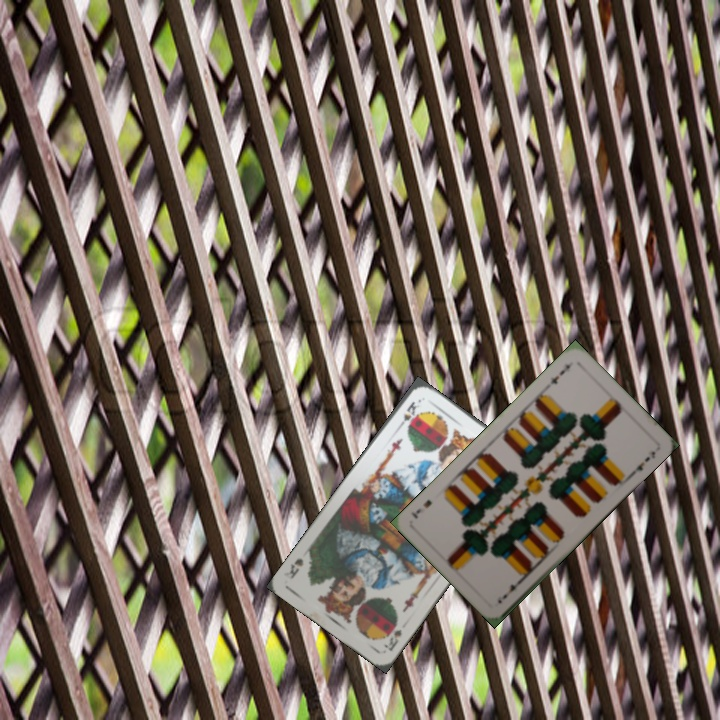E7: (546, 359, 573, 387), (498, 575, 525, 602)
SK: (394, 397, 422, 431), (379, 619, 404, 654)
